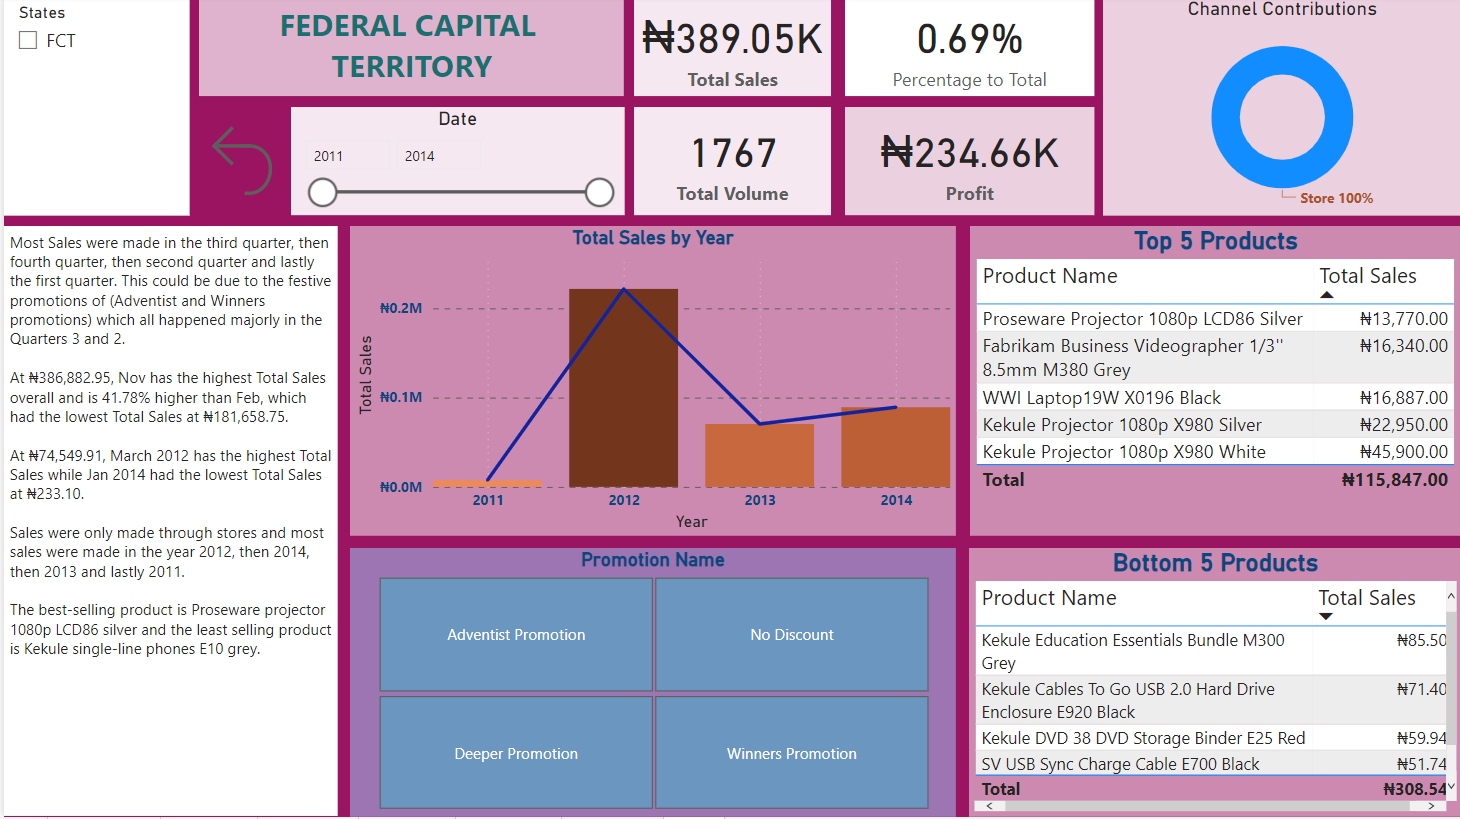

The dashboard page shown, as its layout file describes it:
{"tool":"powerbi","page":{"name":"FCT","canvas":[1280,720],"ordinal":7},"visuals":[{"type":"card","fields":{"Values":["Measures (2).Total Sales"]},"box":[553.4,0,173.1,86.6],"z":0},{"type":"card","fields":{"Values":["Measures (2).Profit"]},"box":[738.2,96.3,218.8,95.3],"z":1000},{"type":"card","fields":{"Values":["Sum(Sales_Details.Order Qty)"]},"box":[553.4,96.3,173.1,95.3],"z":2000},{"type":"slicer","title":"Date","fields":{"Values":["DateKey.Year"]},"box":[251.9,96.3,292.8,95.3],"z":3000},{"type":"tableEx","title":"Top 5 Products","fields":{"Values":["Sales_Details.Product Name","Measures (2).Total Sales"]},"box":[848.1,201.3,431.9,272.3],"z":4000},{"type":"slicer","title":"Promotion Name","fields":{"Values":["Sales_Details.Promotion Name"]},"box":[303.5,483.4,532,236.4],"z":5000},{"type":"textbox","box":[171.2,0,373.5,86.6],"z":6000},{"type":"card","fields":{"Values":["Measures (2).Channel to Product Contribution"]},"box":[738.2,0,218.8,86.6],"z":7000},{"type":"donutChart","title":"Channel Contributions","fields":{"Y":["Measures (2).Total Sales"],"Category":["Sales_Details.Channel"]},"box":[964.9,0,315.1,191.6],"z":8000},{"type":"slicer","fields":{"Values":["Sales_Details.States"]},"box":[0,0,163.4,191.6],"z":9000},{"type":"lineStackedColumnComboChart","title":"Total Sales by Year","fields":{"Category":["DateKey.Year","DateKey.Month","DateKey.Quarters"],"Y":["Measures (2).Total Sales"],"Y2":["Measures (2).Total Sales"]},"box":[303.5,201.3,532,272.3],"z":10000},{"type":"tableEx","title":"Bottom 5 Products","fields":{"Values":["Sales_Details.Product Name","Measures (2).Total Sales"]},"box":[847.2,483.4,432.8,236.4],"z":11000},{"type":"textbox","box":[0,201.3,292.8,518.4],"z":12000},{"type":"actionButton","box":[171.4,95.9,75.6,95.9],"z":13000}]}

Visuals, with their boxes in screenshot pixels (x1, y1, x2, y2), scaled from the page's 1280x720 canvas onto the 1460x819 screenshot:
card - Measures (2).Total Sales: [631, 0, 829, 99]
card - Measures (2).Profit: [842, 110, 1092, 218]
card - Sum(Sales_Details.Order Qty): [631, 110, 829, 218]
"Date" slicer: [287, 110, 621, 218]
"Top 5 Products" tableEx: [967, 229, 1459, 539]
"Promotion Name" slicer: [346, 550, 953, 818]
textbox: [195, 0, 621, 99]
card - Measures (2).Channel to Product Contribution: [842, 0, 1092, 99]
"Channel Contributions" donutChart: [1101, 0, 1459, 218]
slicer - Sales_Details.States: [0, 0, 186, 218]
"Total Sales by Year" lineStackedColumnComboChart: [346, 229, 953, 539]
"Bottom 5 Products" tableEx: [966, 550, 1459, 818]
textbox: [0, 229, 334, 818]
actionButton: [196, 109, 282, 218]
